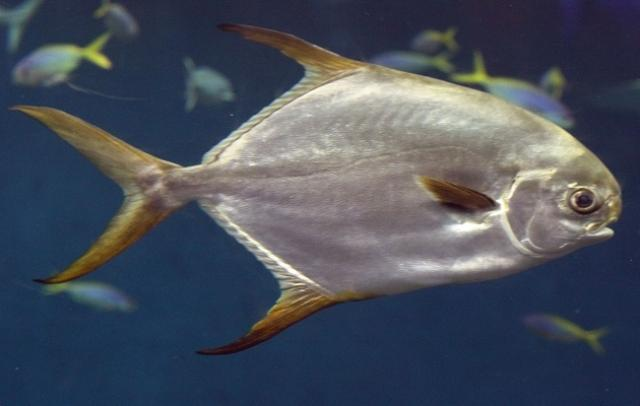Sirip Anal: (193, 193, 317, 287)
Sirip Dada: (403, 165, 513, 243)
Sirip Ekor: (4, 95, 188, 294)
Sirip Perut: (187, 288, 359, 364)
Sirip Punggung: (194, 15, 370, 165)
